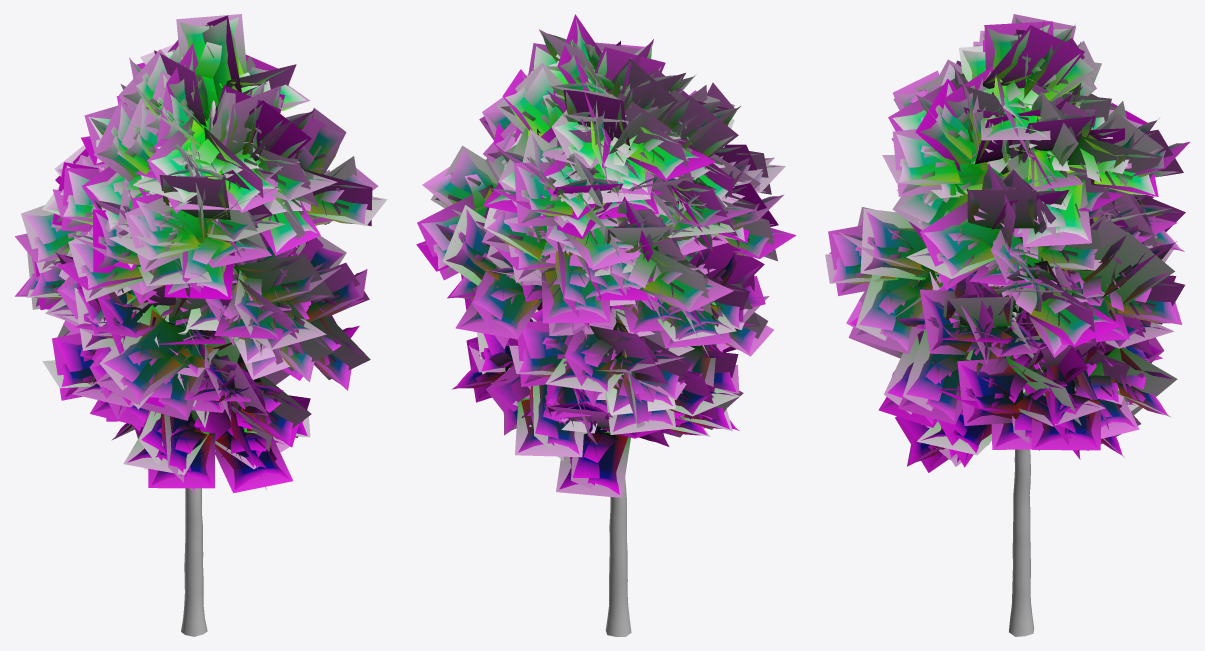
File: pine_03_2.FBX
3 views of the same model, side by side, from view 1: azimuth 30°, elevation 25°; view 2: azimuth 150°, elevation 25°; view 3: azimuth 270°, elevation 25° (orthographic). The views are drawn at different scales.
Visible parts, largest first — view 1: pine_leaves_03_2_shadow, pine_leaves_03_2_lod_0, pine_tree_03_2_lod_0; view 2: pine_leaves_03_2_shadow, pine_leaves_03_2_lod_0, pine_tree_03_2_lod_0; view 3: pine_leaves_03_2_shadow, pine_leaves_03_2_lod_0, pine_tree_03_2_lod_0.
Part boxes in pixels (x1=…): pine_leaves_03_2_shadow: x1=15, y1=14, x2=387, y2=493; pine_leaves_03_2_lod_0: x1=18, y1=17, x2=382, y2=490; pine_tree_03_2_lod_0: x1=142, y1=100, x2=215, y2=636; pine_leaves_03_2_shadow: x1=416, y1=14, x2=796, y2=497; pine_leaves_03_2_lod_0: x1=420, y1=19, x2=790, y2=494; pine_tree_03_2_lod_0: x1=605, y1=477, x2=631, y2=636; pine_leaves_03_2_shadow: x1=825, y1=14, x2=1189, y2=472; pine_leaves_03_2_lod_0: x1=829, y1=17, x2=1185, y2=468; pine_tree_03_2_lod_0: x1=970, y1=161, x2=1034, y2=636.
Size of what is drawn, in the model's own units: 10.57 by 18.98 by 10.05.
